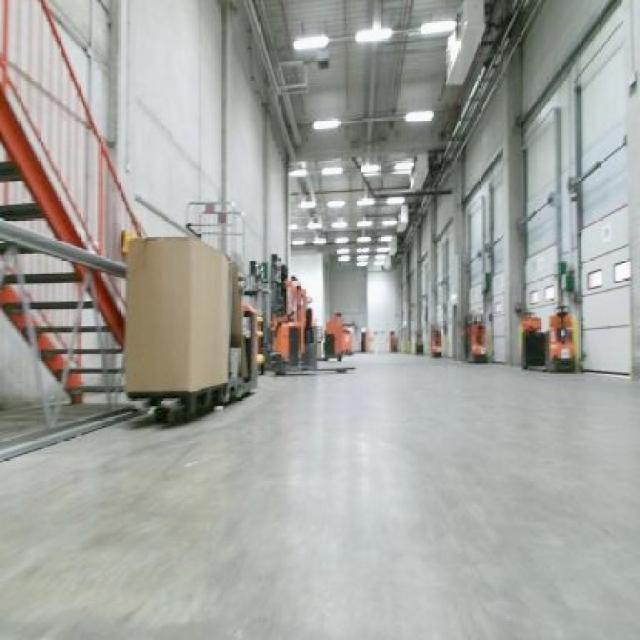floor: (0, 352, 637, 637)
pallets: (123, 235, 255, 418)
